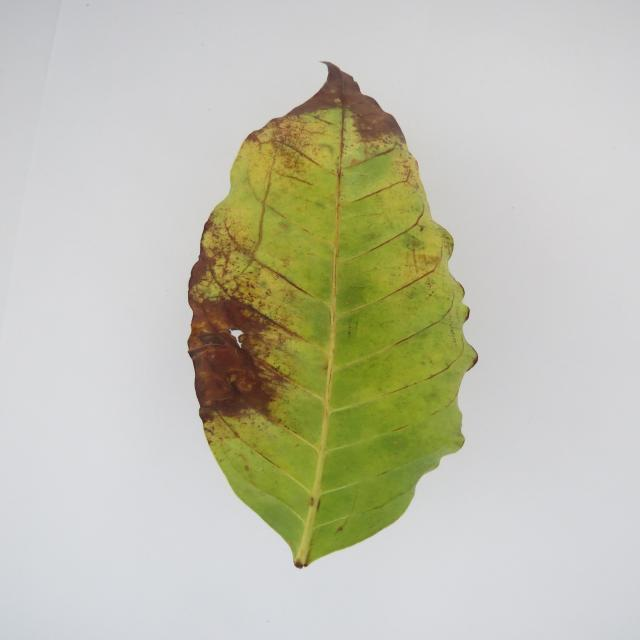DeficienciaNutricional-Potasio: (188, 62, 477, 568)
